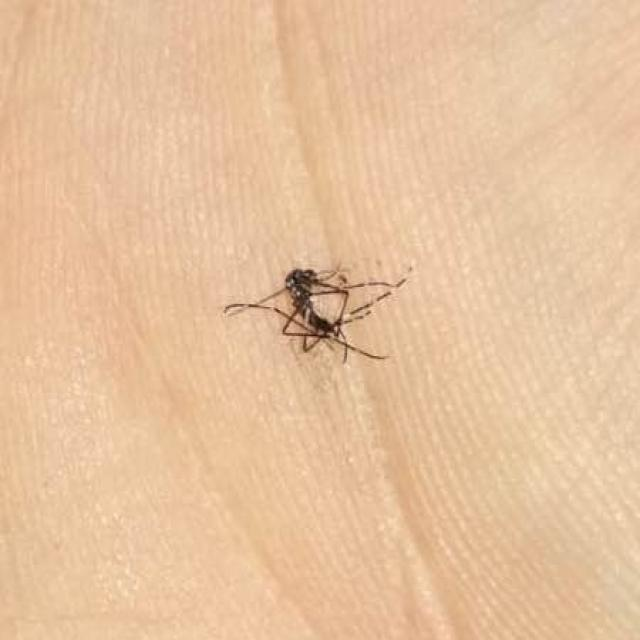albopictus: (220, 242, 412, 374)
